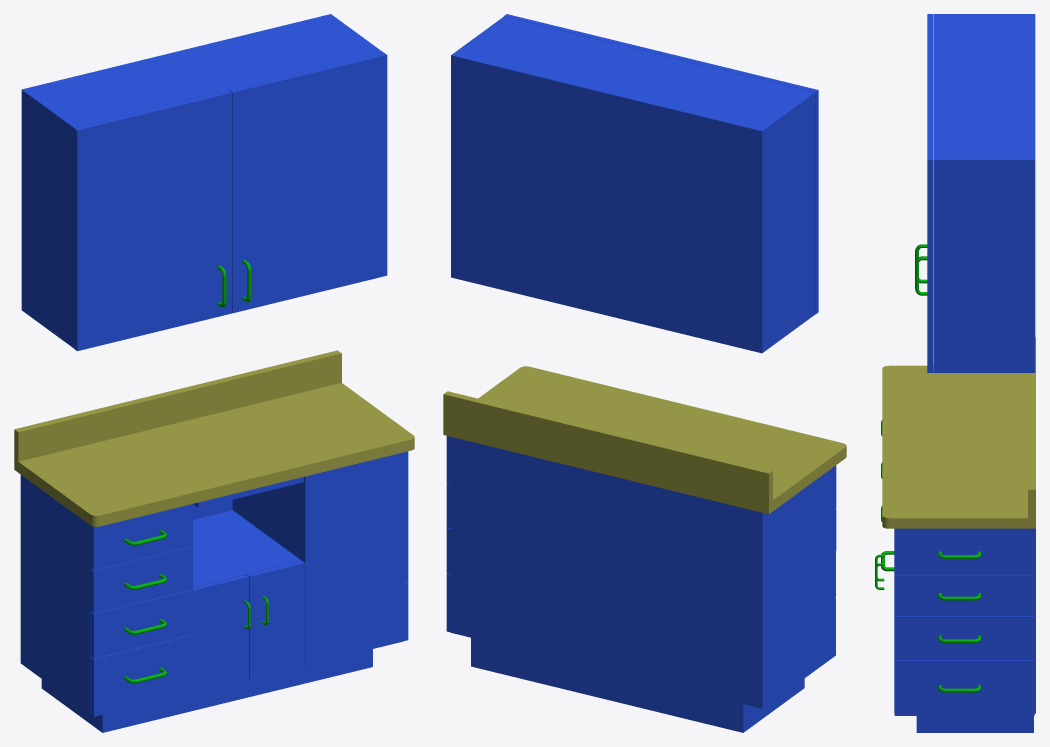
Rendered from Cabinet 6 V2.FBX.
3 views of the same model, side by side, from view 1: azimuth 30°, elevation 25°; view 2: azimuth 150°, elevation 25°; view 3: azimuth 270°, elevation 25° (orthographic). The views are drawn at different scales.
Visible parts, largest first — view 1: Box087, Box079, Cylinder028; view 2: Box087, Box079; view 3: Box087, Box079, Cylinder028.
Boxes of the visible parts, left/top/right/bottom form: Box087: left=20, top=14, right=408, bottom=732; Box079: left=14, top=350, right=414, bottom=526; Cylinder028: left=124, top=260, right=268, bottom=683; Box087: left=446, top=14, right=836, bottom=732; Box079: left=443, top=366, right=846, bottom=514; Box087: left=894, top=14, right=1035, bottom=732; Box079: left=882, top=337, right=1035, bottom=528; Cylinder028: left=875, top=244, right=980, bottom=692.
Bounding box in the file's own units: 7.84 × 13.64 × 3.42.
